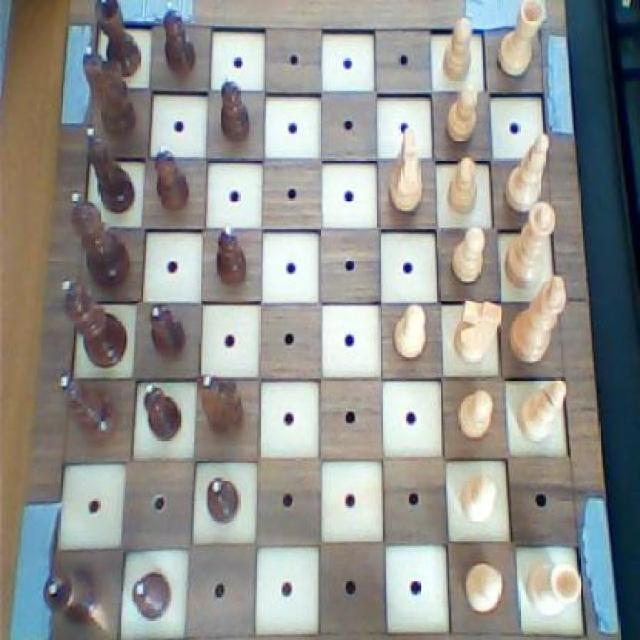bishop: (84, 125, 140, 218), (55, 372, 121, 448)
black-bishop: (58, 278, 128, 369)
black-king: (78, 45, 140, 137), (194, 368, 247, 446)
black-knight: (151, 142, 192, 214), (160, 0, 197, 78), (130, 566, 176, 625), (214, 75, 251, 148), (140, 382, 184, 442), (146, 300, 188, 362), (214, 218, 249, 287), (203, 472, 243, 526)
black-pawn: (69, 188, 137, 294)
black-queen: (91, 0, 146, 82), (41, 566, 100, 622)
black-rook: (511, 372, 574, 450), (504, 126, 556, 217)
white-bishop: (506, 272, 568, 366)
white-king: (384, 121, 426, 217), (449, 295, 505, 367)
white-knight: (444, 151, 486, 220), (462, 556, 506, 620), (388, 298, 430, 364), (438, 11, 474, 84), (442, 84, 483, 148), (448, 223, 488, 288), (458, 469, 499, 531), (454, 384, 494, 444)
white-pawn: (504, 197, 562, 291)
white-queen: (494, 0, 548, 83), (523, 558, 585, 620)
